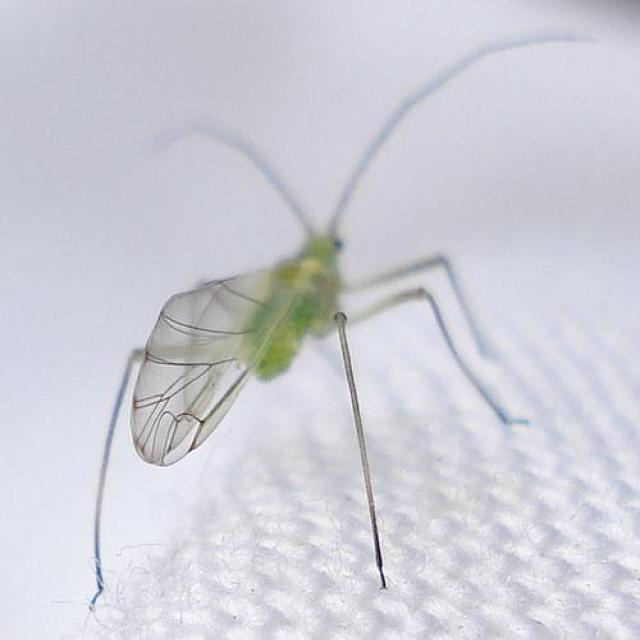Aphids: (85, 86, 563, 600)
